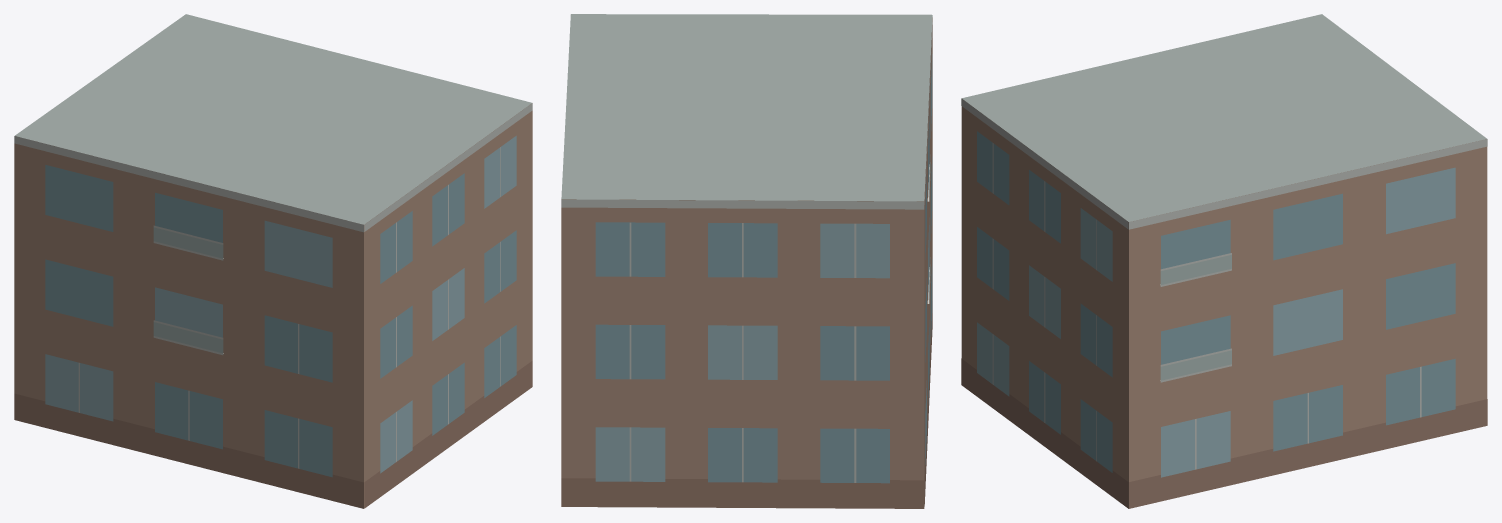
The model's file is survey-upis-32721147.glb.
The picture shows the model from 3 angles, left to right: view 1: azimuth 30°, elevation 25°; view 2: azimuth 150°, elevation 25°; view 3: azimuth 270°, elevation 25°; orthographic projection. The views are drawn at different scales.
Visible parts, largest first — view 1: survey-upis-32721147.tmp; view 2: survey-upis-32721147.tmp; view 3: survey-upis-32721147.tmp.
Boxes of the visible parts, left/top/right/bottom form: survey-upis-32721147.tmp: left=14, top=14, right=532, bottom=508; survey-upis-32721147.tmp: left=561, top=14, right=932, bottom=508; survey-upis-32721147.tmp: left=961, top=14, right=1487, bottom=508.
Bounding box in the file's own units: 14.25 × 9.15 × 15.22.
